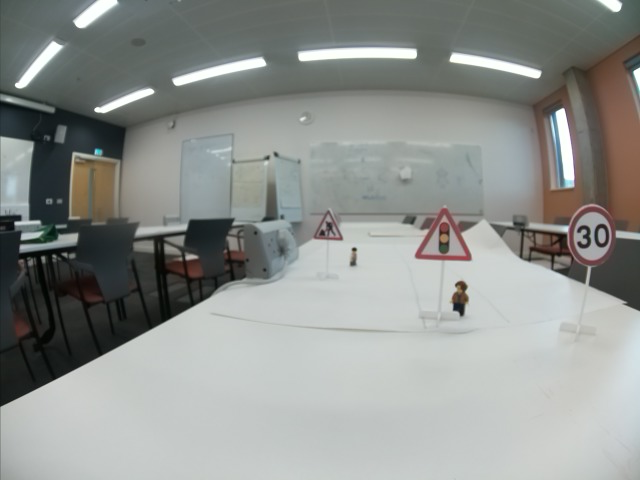30mph: (567, 204, 616, 268)
Lego Man: (449, 280, 472, 314), (347, 246, 360, 266)
Roadworks: (314, 211, 344, 241)
Traffic lights: (417, 207, 471, 260)
